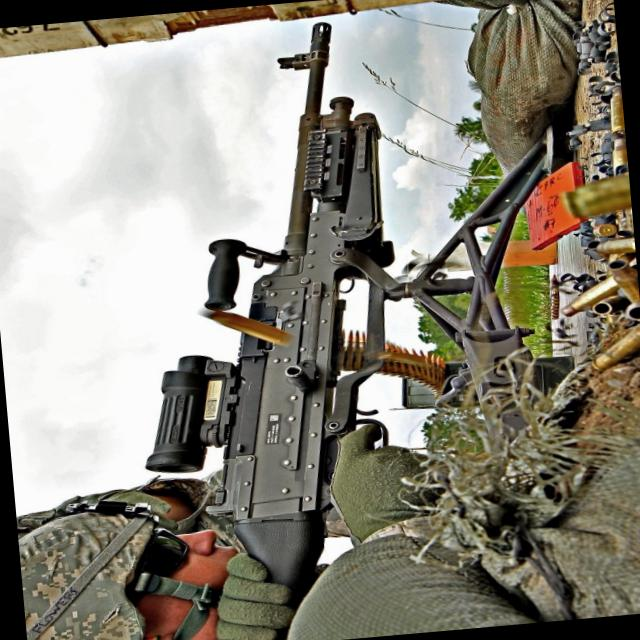long weapon: (126, 7, 427, 483)
